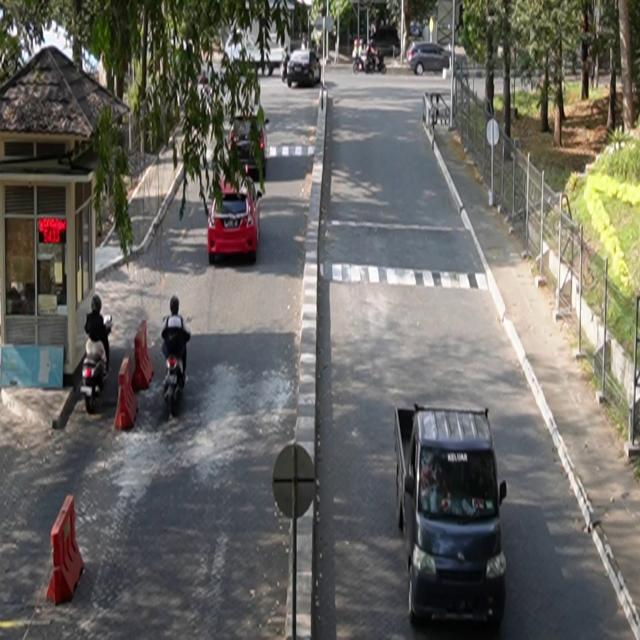car: (395, 403, 508, 630), (208, 173, 262, 264), (230, 114, 268, 180), (288, 50, 322, 88)
